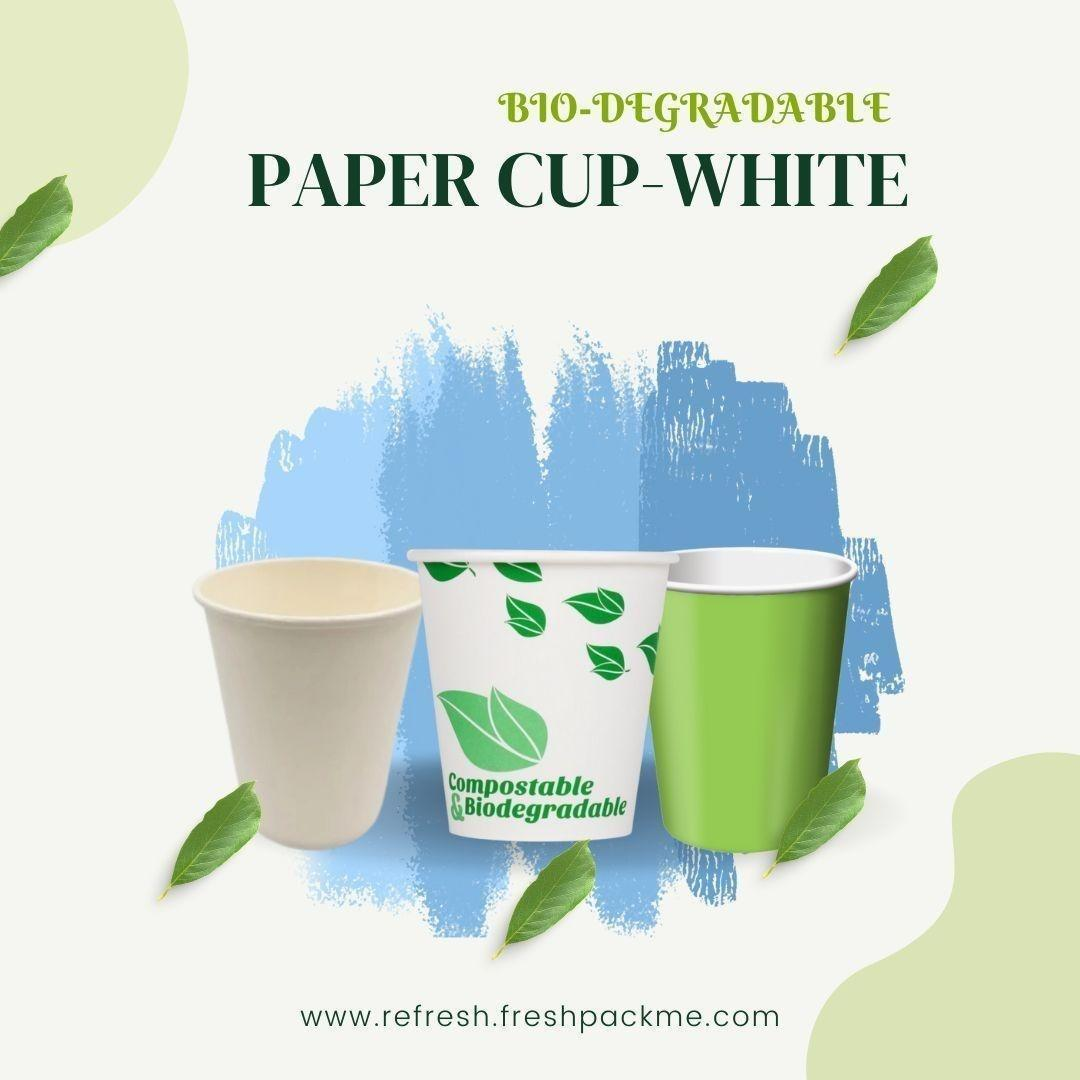cup-disposable: (399, 532, 678, 857), (181, 551, 434, 856), (653, 521, 861, 859)
